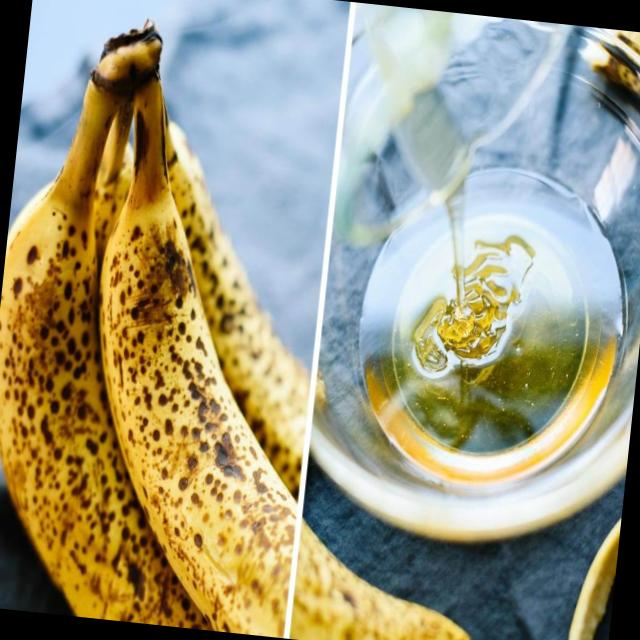banana: (67, 177, 511, 640), (0, 166, 264, 630)
